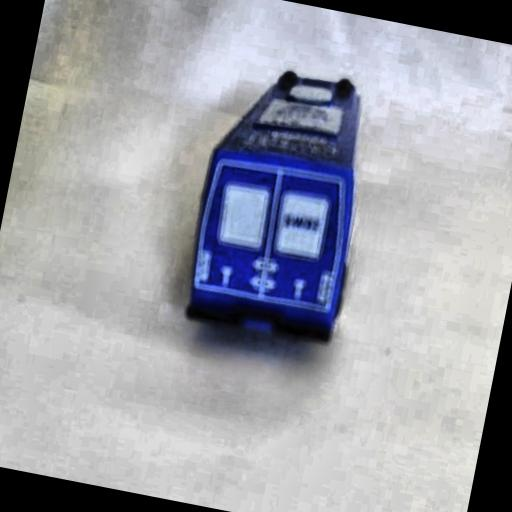police car: (175, 56, 384, 366)
